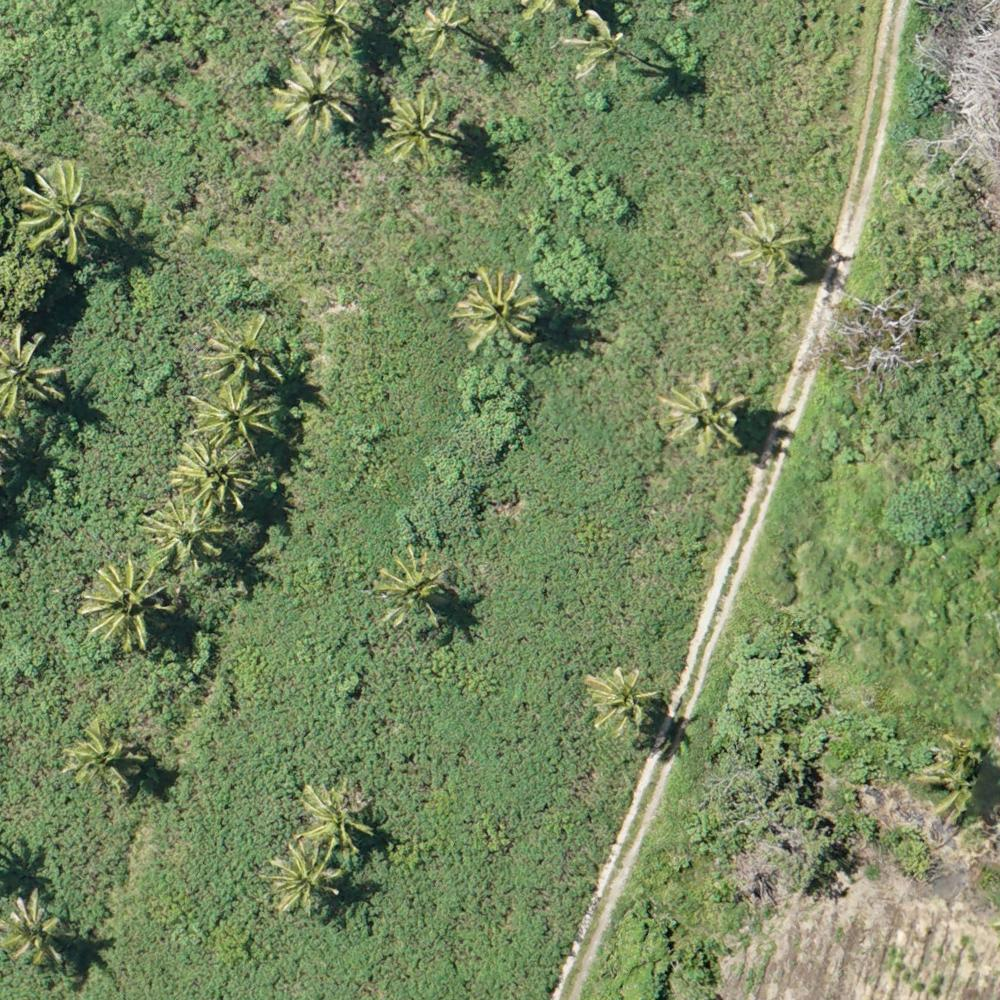Palm: (17, 162, 108, 258), (455, 268, 540, 350), (656, 373, 741, 455), (140, 495, 230, 569), (273, 57, 355, 136), (189, 384, 276, 458), (726, 205, 807, 280), (88, 563, 163, 644), (65, 721, 140, 798), (376, 547, 449, 626), (299, 778, 375, 851), (271, 843, 345, 914), (585, 663, 659, 734), (202, 318, 279, 386), (175, 443, 252, 511), (2, 891, 64, 969), (564, 8, 631, 78), (385, 93, 448, 165), (284, 1, 365, 56), (413, 5, 471, 59)
